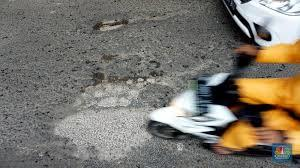Pothole: (59, 22, 188, 163)
